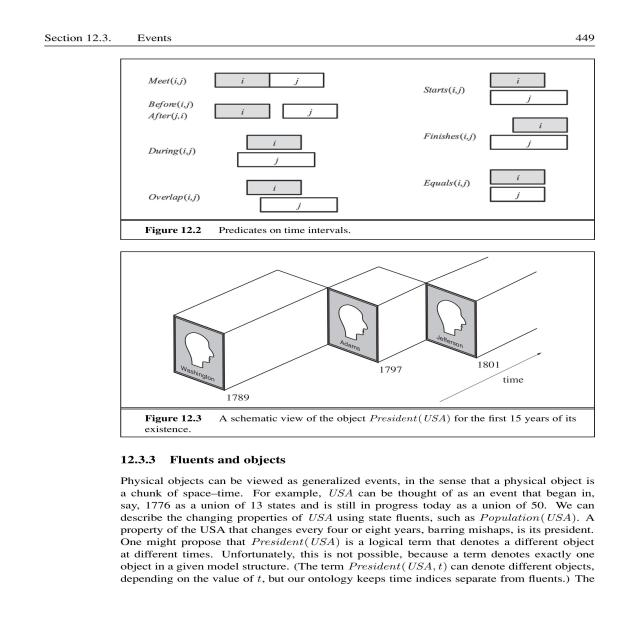diagram: (119, 252, 597, 441), (125, 58, 601, 238)
